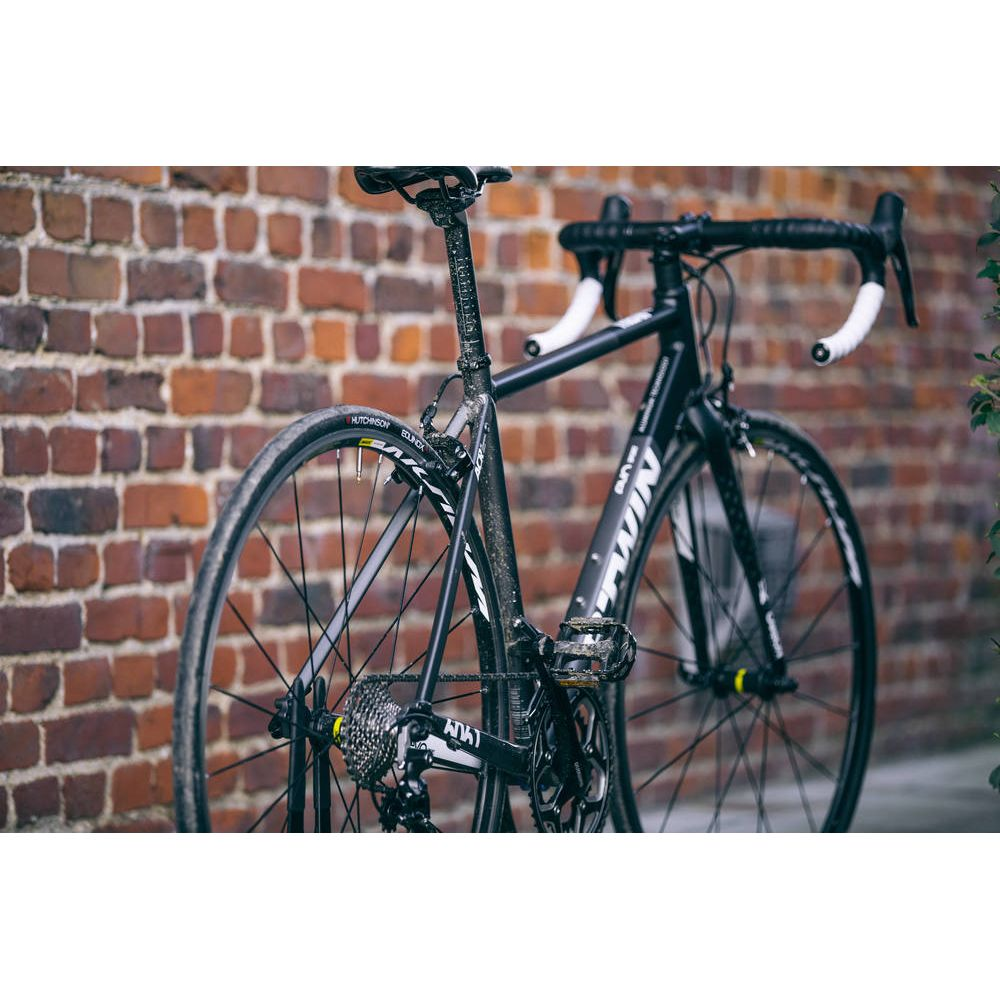RoadBike: (147, 159, 879, 842)
